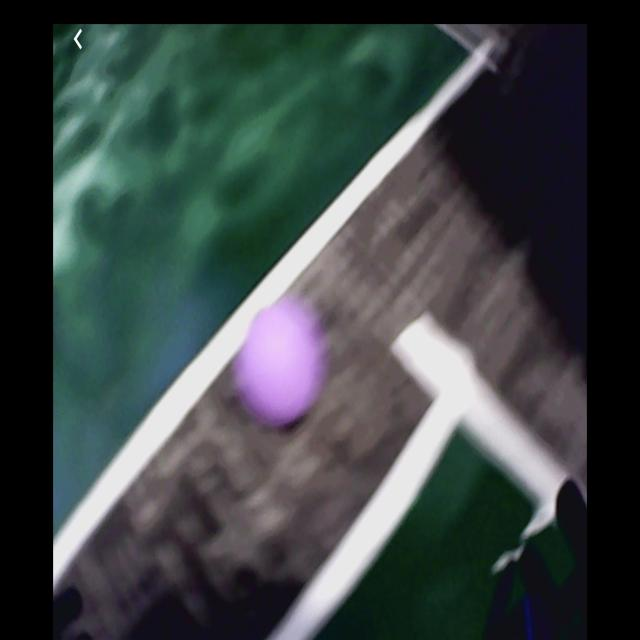ball: (243, 301, 323, 426)
